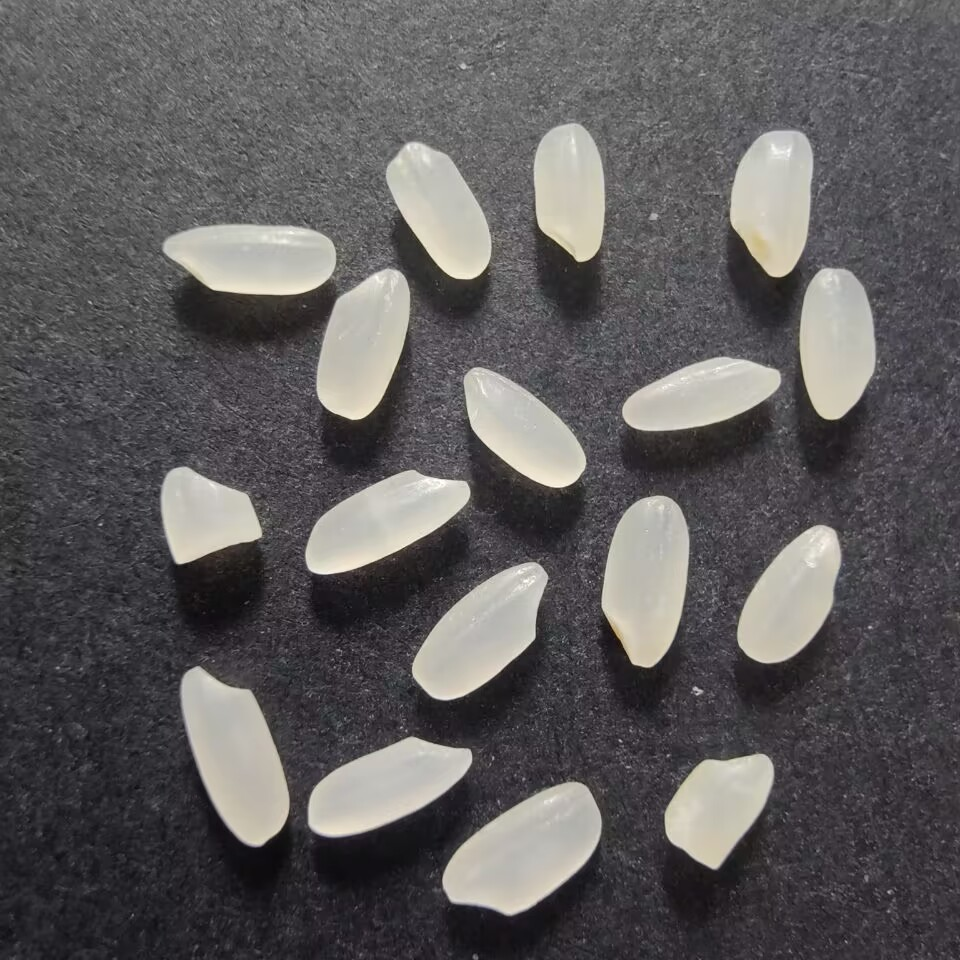broken: (658, 748, 779, 876), (156, 459, 270, 576)
rice: (438, 779, 607, 919), (173, 665, 296, 853), (400, 557, 549, 705), (300, 461, 475, 581), (300, 729, 478, 846), (594, 488, 696, 672), (455, 363, 593, 495), (309, 259, 414, 426), (381, 136, 496, 283), (733, 520, 847, 668), (722, 123, 816, 285), (152, 219, 339, 297), (615, 353, 786, 438), (795, 265, 878, 427), (530, 119, 610, 270)
